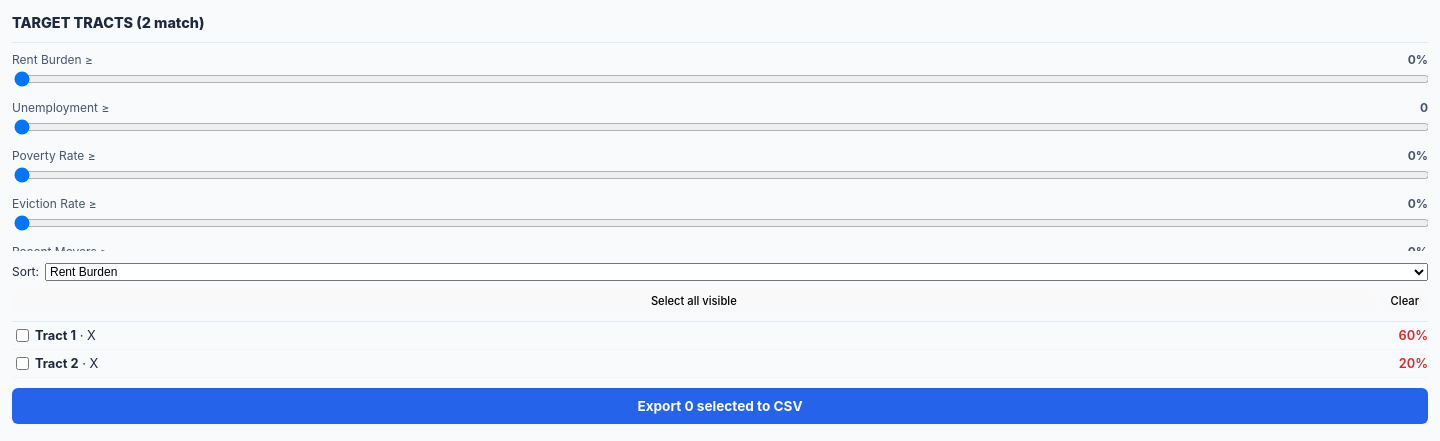
TargetingPanel — selection › "Select all visible" selects every filtered tract
The image size is (1440, 441).
Click the button "Select all visible": (694, 301) [12, 289, 1376, 313]
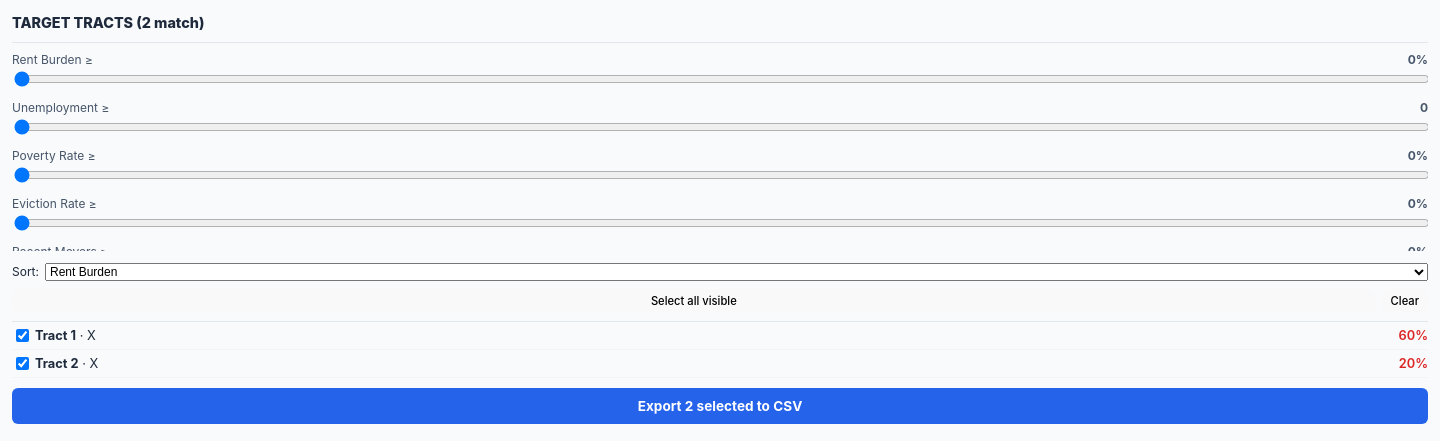
Now the button "Export 2 selected to CSV" is shown, box [12, 388, 1428, 424]
